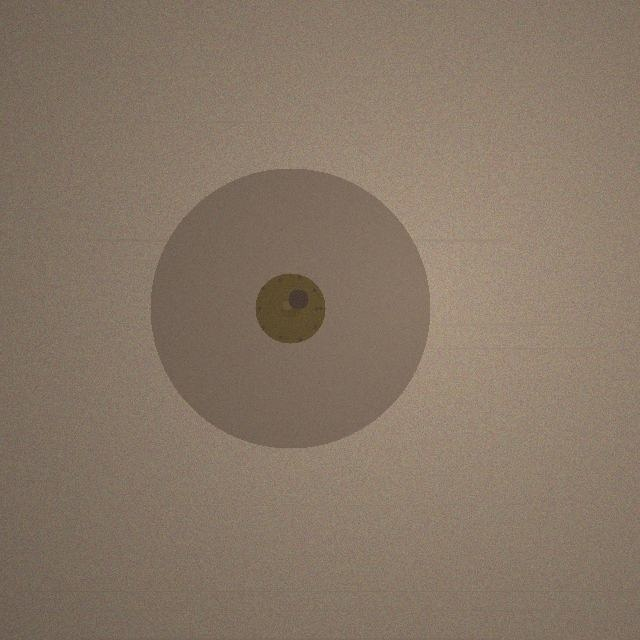cold_weld: (150, 168, 430, 448)
